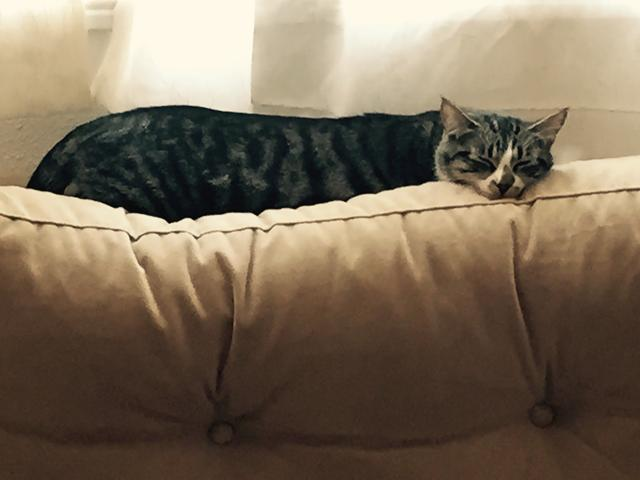playdoh: (22, 97, 575, 226)
